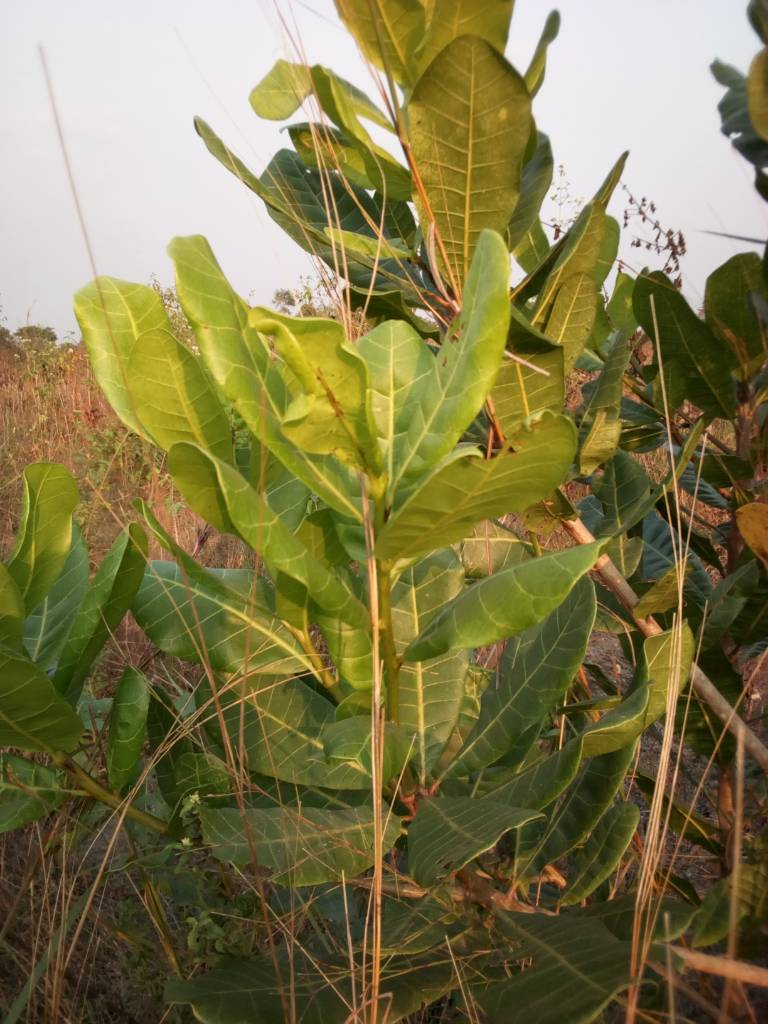Helopeltis anacardii: (171, 439, 375, 616), (410, 35, 535, 267), (393, 413, 579, 561), (411, 549, 596, 658), (10, 461, 83, 586), (1, 658, 83, 760)
